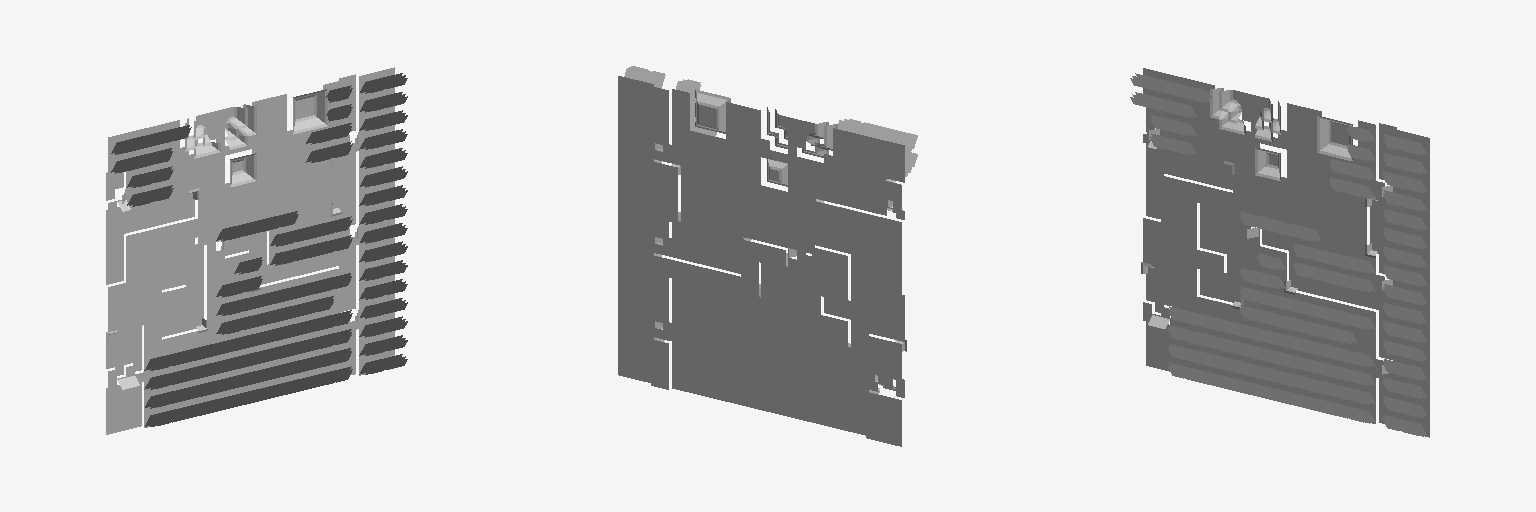
File: Plat_full_16_16.obj
3 views of the same model, side by side, from view 1: azimuth 30°, elevation 25°; view 2: azimuth 150°, elevation 25°; view 3: azimuth 330°, elevation 25° (orthographic).
Visible parts, largest first — view 1: map; view 2: map; view 3: map.
Boxes of the visible parts, x1,y1,x2,y2 form: map: [106, 67, 407, 434]; map: [618, 66, 917, 446]; map: [1130, 68, 1429, 437].
Size of the model in its own units: 32.25 by 32.12 by 3.14.